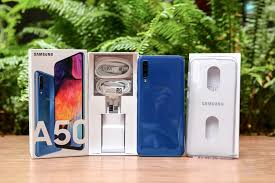samsung: (134, 51, 185, 158)
